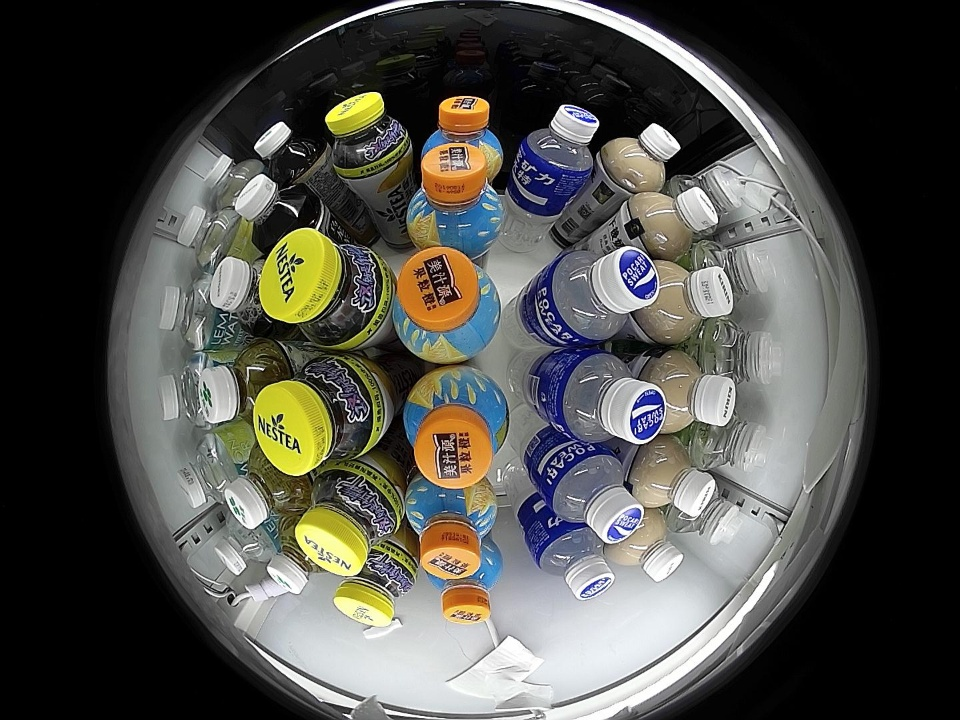baicha: (196, 340, 290, 424), (223, 454, 312, 529), (267, 525, 326, 595)
baokuangli: (541, 245, 659, 345), (550, 348, 666, 446), (544, 445, 645, 544), (515, 102, 600, 189), (533, 522, 615, 601)
chacui: (254, 352, 389, 474), (259, 230, 393, 349), (297, 461, 403, 575), (325, 90, 413, 180), (333, 545, 417, 628)
damaicha: (255, 121, 325, 183)
guolicheng: (401, 367, 510, 488), (393, 247, 500, 362), (406, 142, 504, 251), (405, 479, 499, 580), (422, 96, 504, 174), (426, 546, 502, 623)
jianjiao: (702, 319, 781, 388), (696, 242, 773, 306), (692, 410, 770, 473), (675, 482, 743, 545), (680, 166, 743, 227)
qinningshui: (177, 434, 242, 508), (159, 278, 223, 351), (178, 205, 246, 269), (157, 355, 214, 428), (213, 517, 275, 575), (204, 153, 260, 208)
wuhounaicha: (638, 262, 735, 345), (645, 350, 737, 431), (627, 185, 719, 260), (630, 439, 716, 517), (601, 122, 681, 194), (610, 512, 684, 582)
wulongcha: (236, 175, 314, 249), (210, 255, 282, 334)
